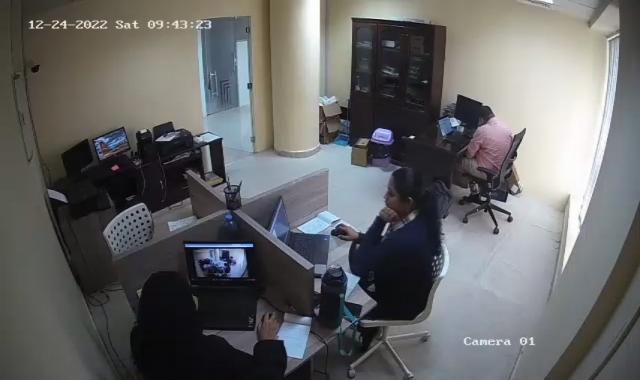no_hairnet: (138, 269, 201, 337), (384, 166, 420, 219), (475, 103, 494, 128)
